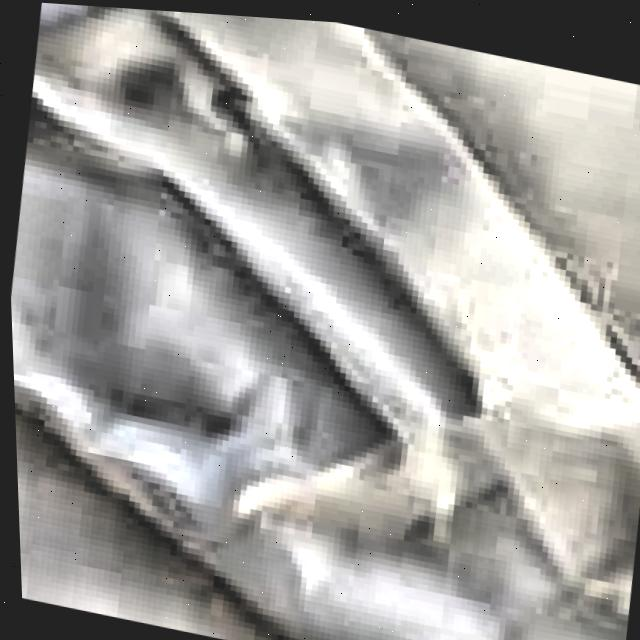paper: (9, 2, 640, 640)
